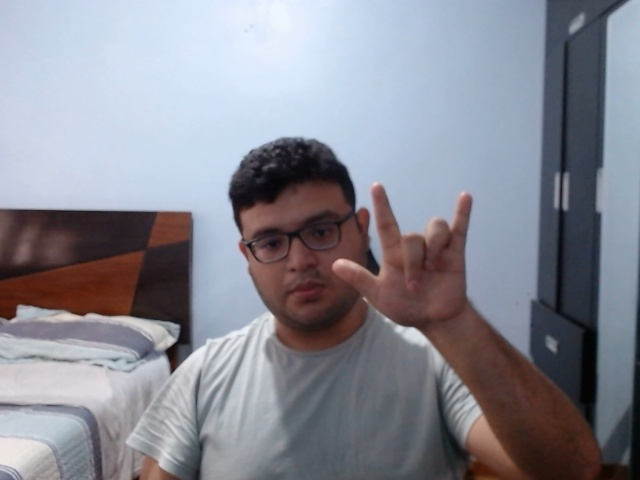I love you: (329, 178, 473, 335)
